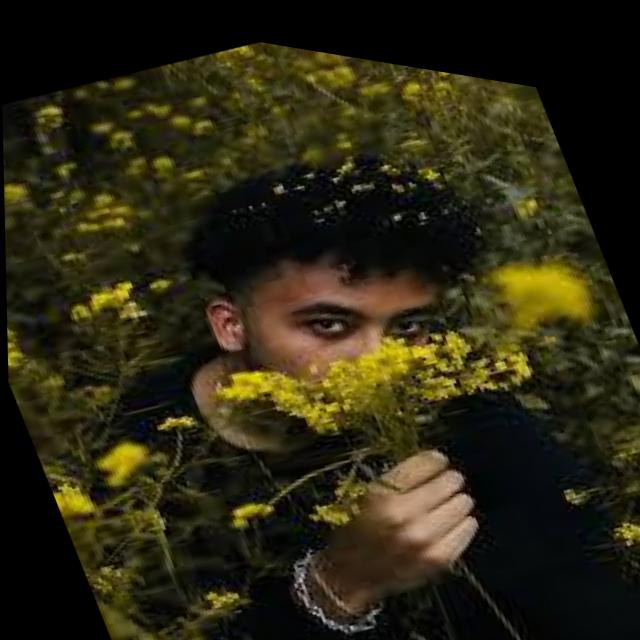Flower: (230, 259, 542, 478)
